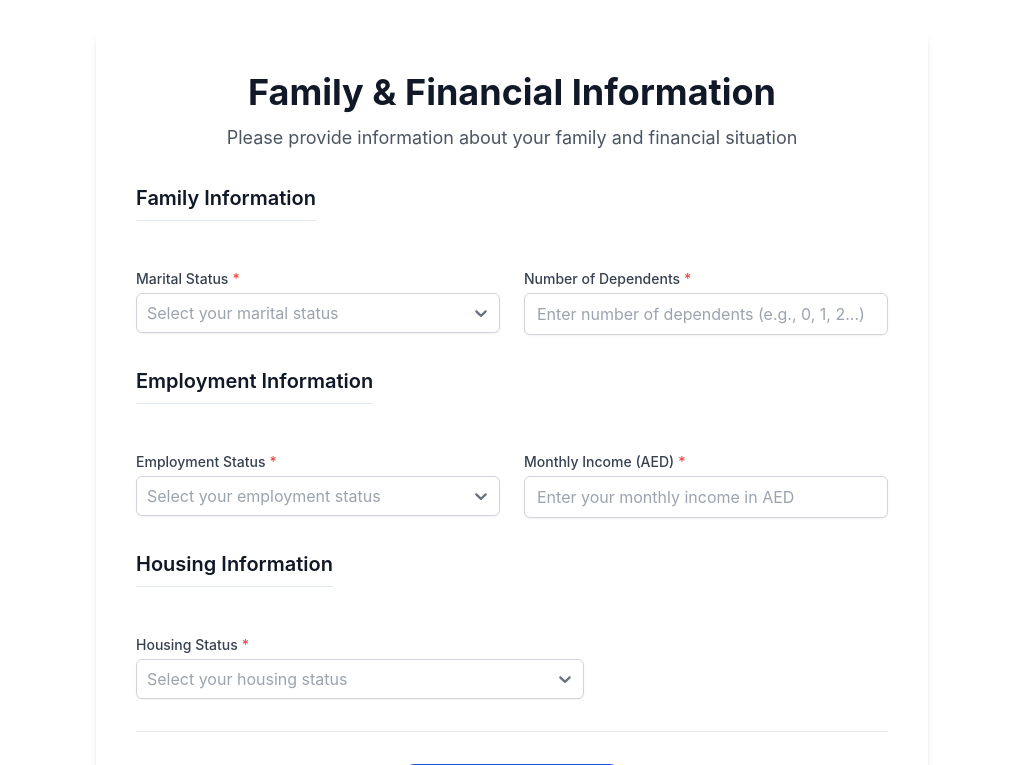
Test case: FamilyFinancialInfo Component › shows unsaved changes message when form is dirty
Type "1" into the field labelled "Number of Dependents*" at (706, 314), box [524,293,888,335]
(page scrolled)
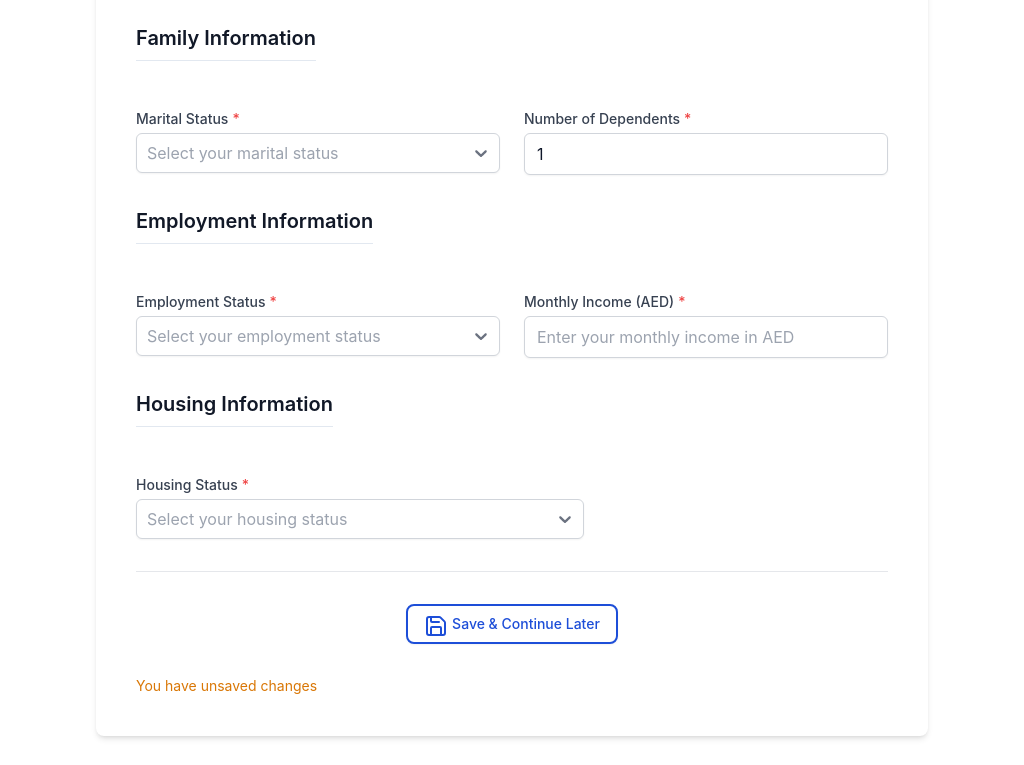
Expected: the text "You have unsaved changes" is shown, [136,677,317,694]
